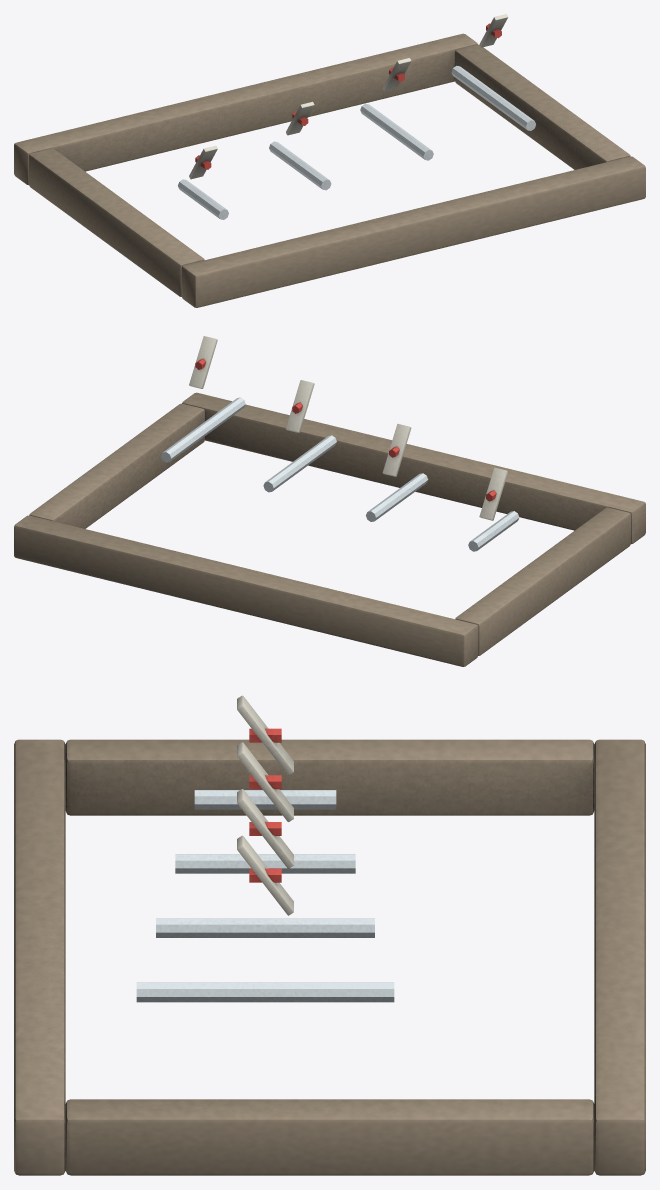
File: soil_thermometers.glb
The picture shows the model from 3 angles, top to bottom: view 1: azimuth 30°, elevation 25°; view 2: azimuth 150°, elevation 25°; view 3: azimuth 270°, elevation 25°; orthographic projection. The views are drawn at different scales.
Parts seen in each view (by area): view 1: soil_thermometers; view 2: soil_thermometers; view 3: soil_thermometers.
Boxes of the visible parts, left/top/right/bottom form: soil_thermometers: left=14, top=14, right=645, bottom=307; soil_thermometers: left=14, top=336, right=645, bottom=666; soil_thermometers: left=14, top=695, right=645, bottom=1175.
Size of the model in its own units: 1.4 by 0.46 by 0.98.
Materials: 1 (1 with a texture image).
